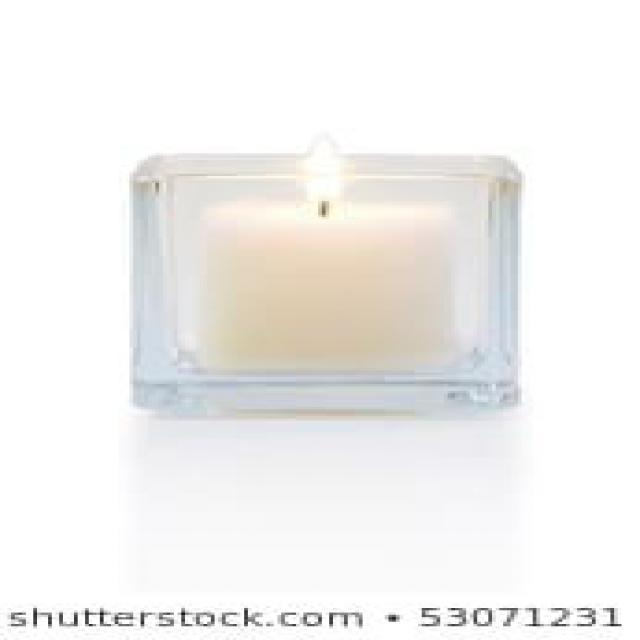Fire: (306, 141, 346, 202)
